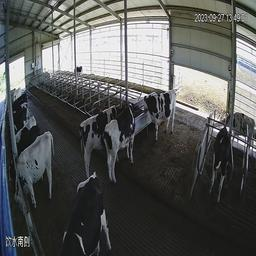cow: (59, 168, 111, 255), (77, 103, 126, 183), (14, 130, 55, 219), (103, 101, 139, 186), (143, 89, 179, 140), (208, 126, 231, 204), (220, 107, 253, 154), (71, 64, 82, 81)
